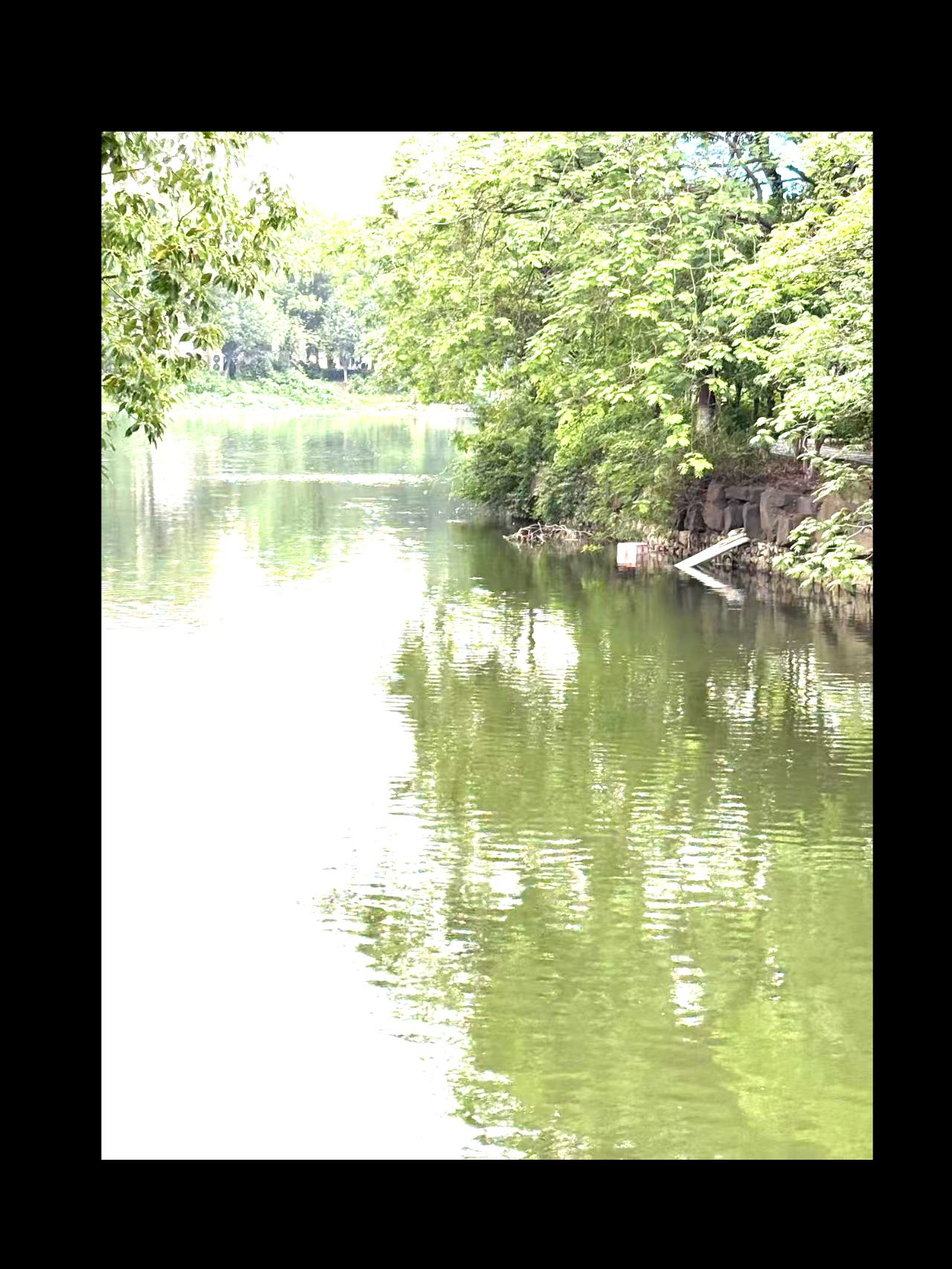Plastic wastes: (617, 537, 649, 569)
